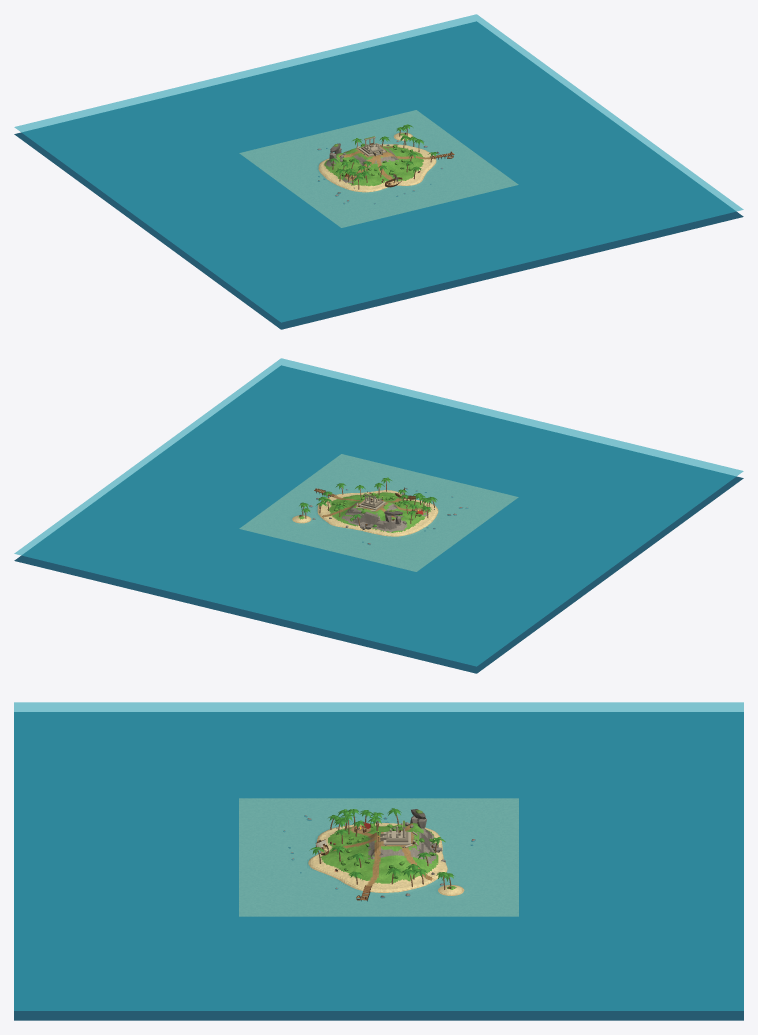
Rendered from treasure_cove.glb.
3 renders of one model, top to bottom at view 1: azimuth 30°, elevation 25°; view 2: azimuth 150°, elevation 25°; view 3: azimuth 270°, elevation 25°, orthographic. The views are drawn at different scales.
Parts seen in each view (by area): view 1: Water, Seabed, Terrain, Palms; view 2: Water, Seabed, Terrain, Palms; view 3: Water, Seabed, Terrain, Palms, Temple_Ruins.
Part boxes in pixels (box(x1,y1,x2,y2)): Water: box(14, 14, 743, 322); Seabed: box(14, 21, 743, 329); Terrain: box(239, 110, 518, 227); Palms: box(329, 124, 438, 189); Water: box(14, 358, 743, 666); Seabed: box(14, 365, 743, 673); Terrain: box(239, 454, 518, 571); Palms: box(299, 477, 437, 525); Water: box(14, 702, 743, 1010); Seabed: box(14, 712, 743, 1020); Terrain: box(239, 798, 518, 916); Palms: box(309, 808, 453, 889); Temple_Ruins: box(378, 820, 417, 847).
Size of the model in its own units: 240 by 15.47 by 240.
